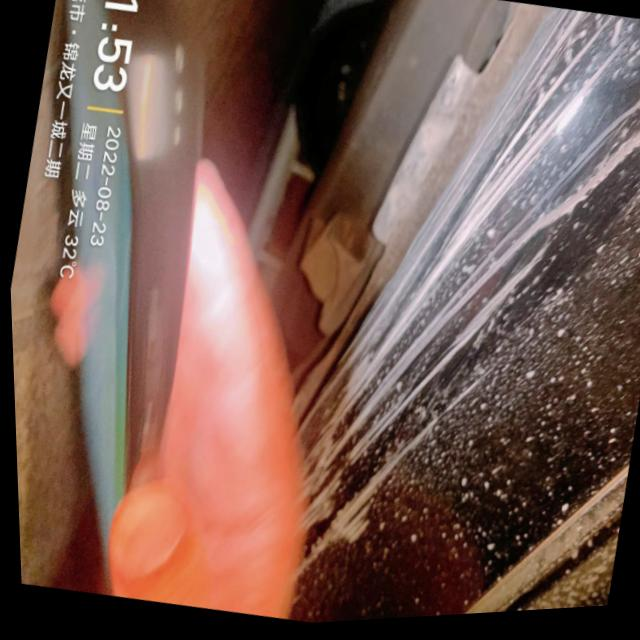Scratch: (297, 7, 640, 557)
